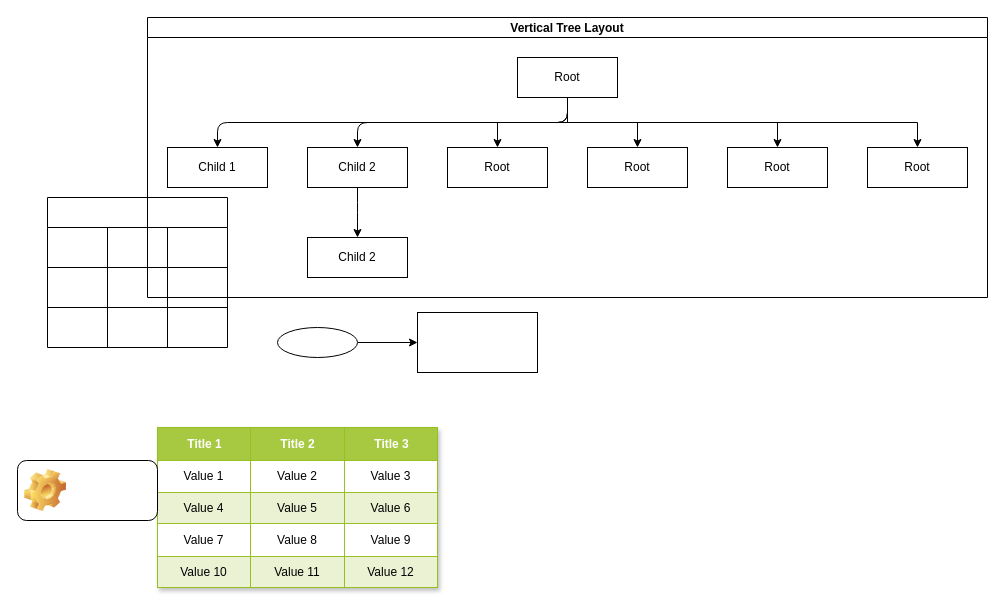
Image size: 1005x612. Some labels were removed from this diagram. The centre of each missing label's shape, as x and y in pixels:
Label: (x=87, y=490)
Start: (x=317, y=342)
Table: (x=137, y=272)
